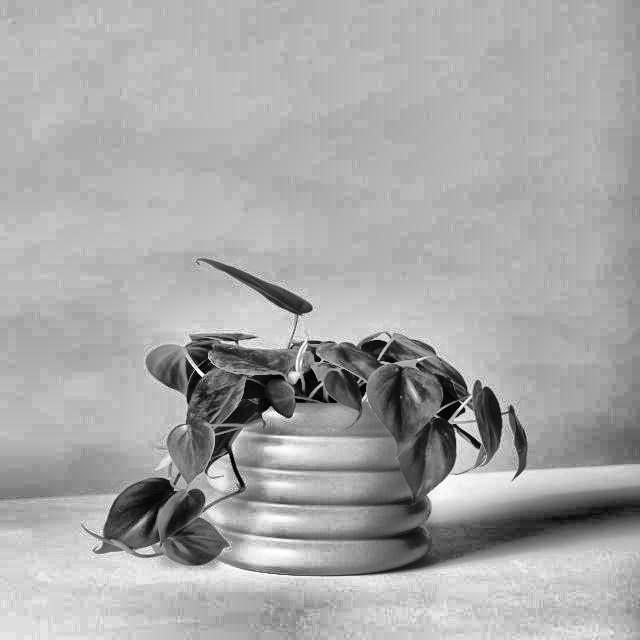plants: (92, 260, 530, 578)
